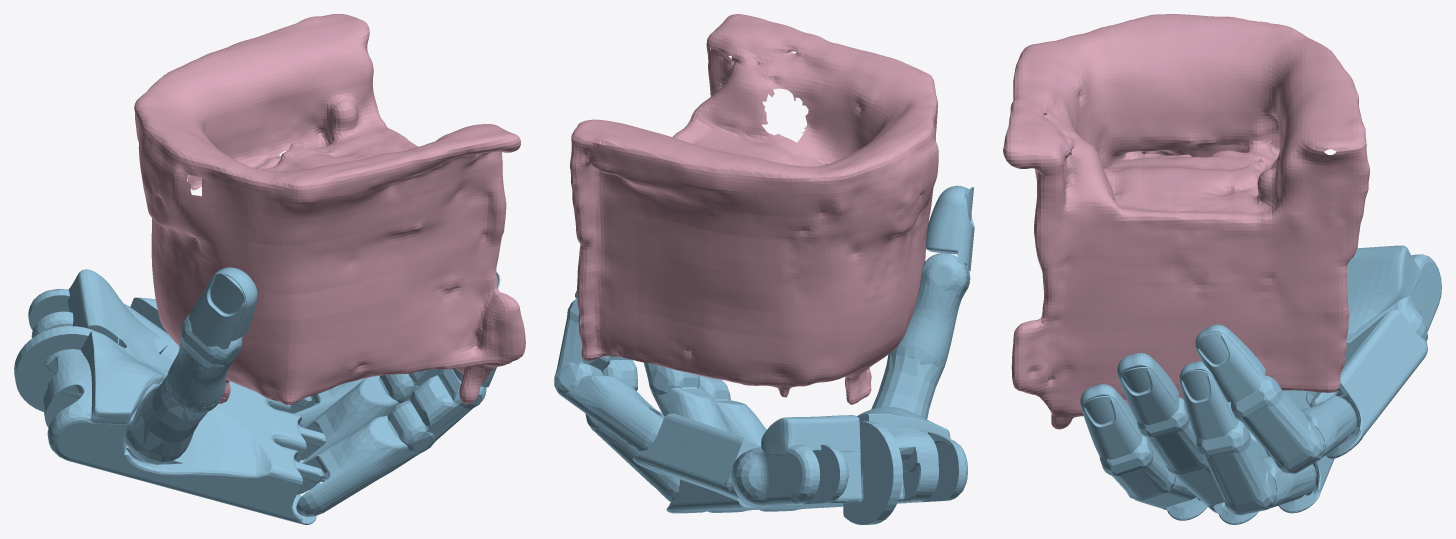
The picture shows the model from 3 angles, left to right: view 1: azimuth 30°, elevation 25°; view 2: azimuth 150°, elevation 25°; view 3: azimuth 270°, elevation 25°; orthographic projection. The views are drawn at different scales.
Parts seen in each view (by area): view 1: world, hand_isaac_q; view 2: world, hand_isaac_q; view 3: world, hand_isaac_q.
Part boxes in pixels (left/top/right/bottom): world: left=134, top=14, right=525, bottom=405; hand_isaac_q: left=14, top=267, right=500, bottom=524; world: left=570, top=14, right=938, bottom=404; hand_isaac_q: left=554, top=185, right=974, bottom=524; world: left=1003, top=14, right=1369, bottom=429; hand_isaac_q: left=1070, top=149, right=1441, bottom=524.
Size of the model in its own units: 0.1697 by 0.1719 by 0.1557.
